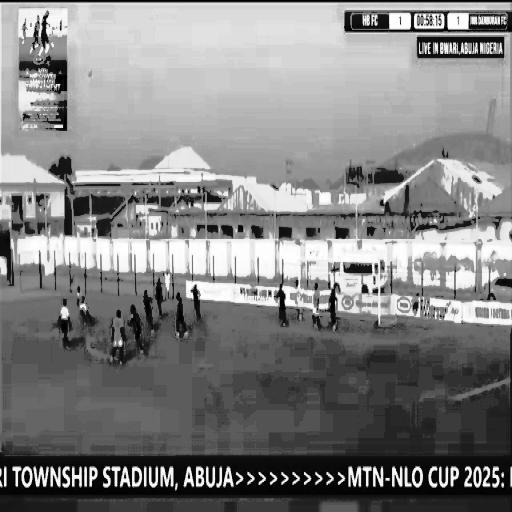keeper2: (290, 271, 304, 324)
referee: (60, 294, 71, 354)
team1: (109, 306, 126, 364), (70, 289, 95, 324), (310, 274, 323, 338)
team2: (129, 299, 146, 360), (173, 289, 192, 343), (140, 278, 158, 332), (189, 284, 210, 320), (150, 266, 164, 318), (328, 286, 342, 332), (276, 286, 289, 330)
